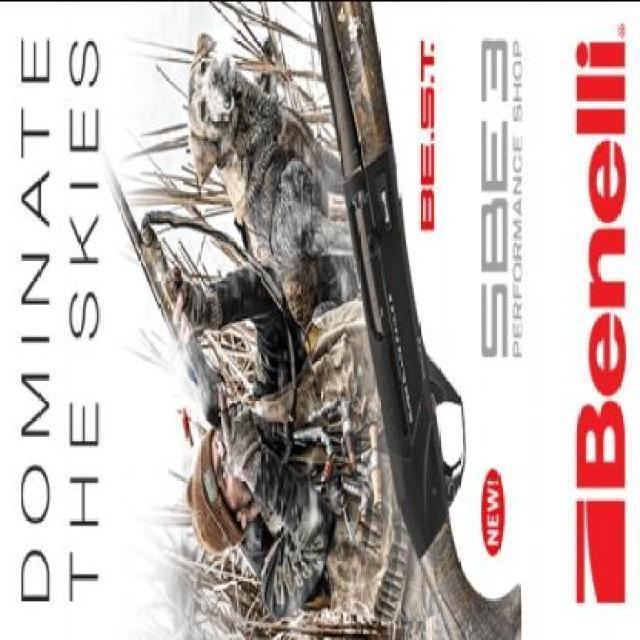weapon: (308, 0, 467, 560)
